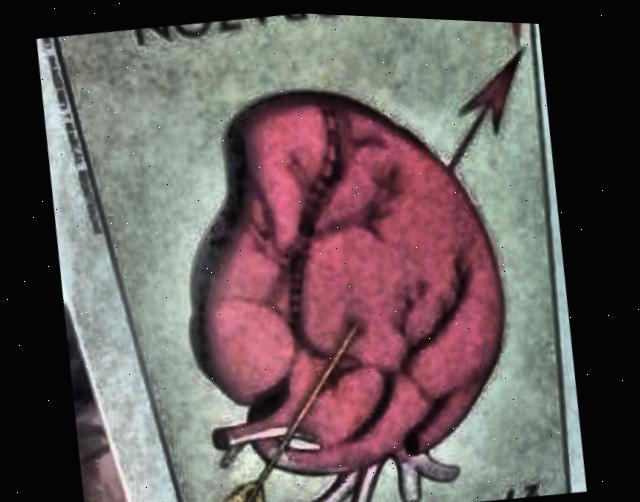El Corazon: (57, 11, 571, 502)
